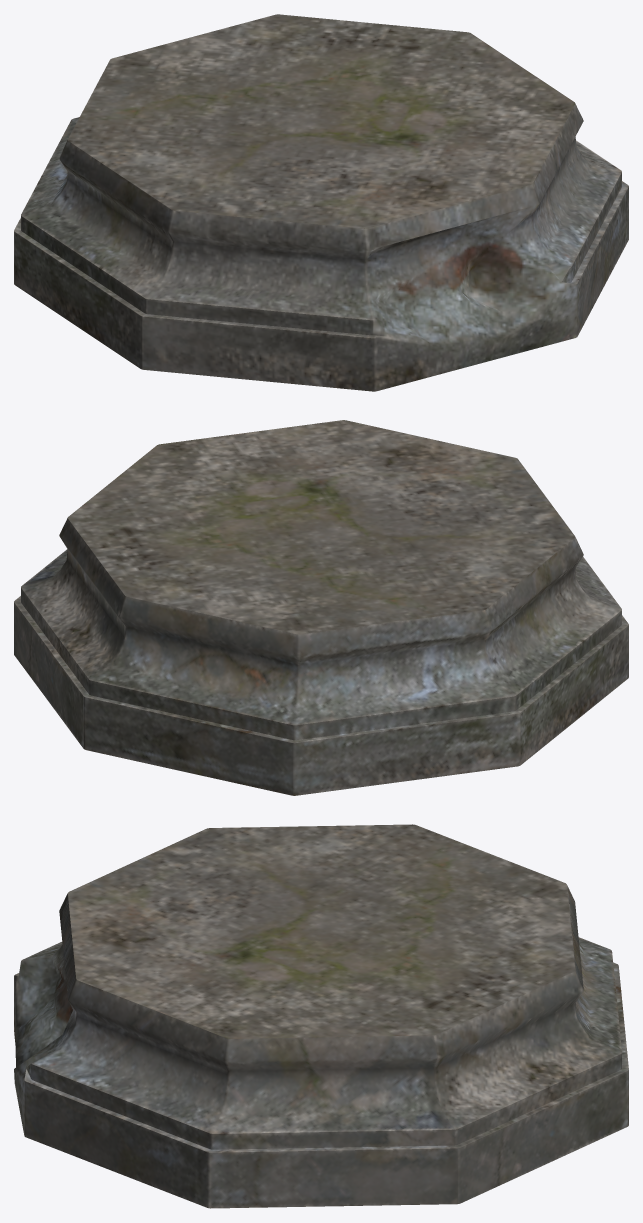
The model's file is SM_ChapelColumnBase_01_01.fbx.
The picture shows the model from 3 angles, top to bottom: view 1: azimuth 30°, elevation 25°; view 2: azimuth 150°, elevation 25°; view 3: azimuth 270°, elevation 25°; orthographic projection. The views are drawn at different scales.
Visible parts, largest first — view 1: sm_ChapelColumnBase_01_01_LOD0; view 2: sm_ChapelColumnBase_01_01_LOD0; view 3: sm_ChapelColumnBase_01_01_LOD0.
Boxes of the visible parts, x1=… form: sm_ChapelColumnBase_01_01_LOD0: x1=14, y1=14, x2=628, y2=391; sm_ChapelColumnBase_01_01_LOD0: x1=14, y1=420, x2=628, y2=795; sm_ChapelColumnBase_01_01_LOD0: x1=14, y1=824, x2=628, y2=1208.
Bounding box in the file's own units: 94.4 × 94.38 × 24.87.
